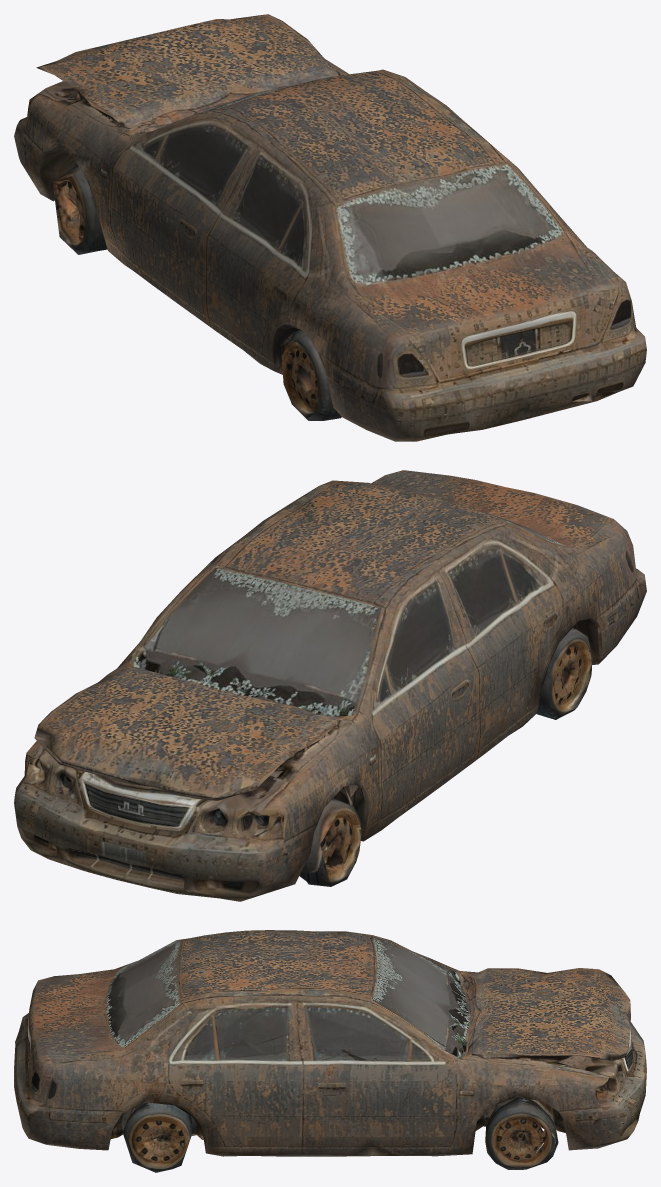
The model's file is Prop_CarSedan.glb.
The picture shows the model from 3 angles, top to bottom: view 1: azimuth 30°, elevation 25°; view 2: azimuth 150°, elevation 25°; view 3: azimuth 270°, elevation 25°; orthographic projection. The views are drawn at different scales.
Visible parts, largest first — view 1: texture_mapping; view 2: texture_mapping; view 3: texture_mapping.
Boxes of the visible parts, left/top/right/bottom form: texture_mapping: left=14, top=14, right=646, bottom=441; texture_mapping: left=14, top=470, right=646, bottom=901; texture_mapping: left=14, top=930, right=646, bottom=1172.
Bounding box in the file's own units: 0.3932 × 0.2861 × 0.9982.
1 material, 1 textured.
